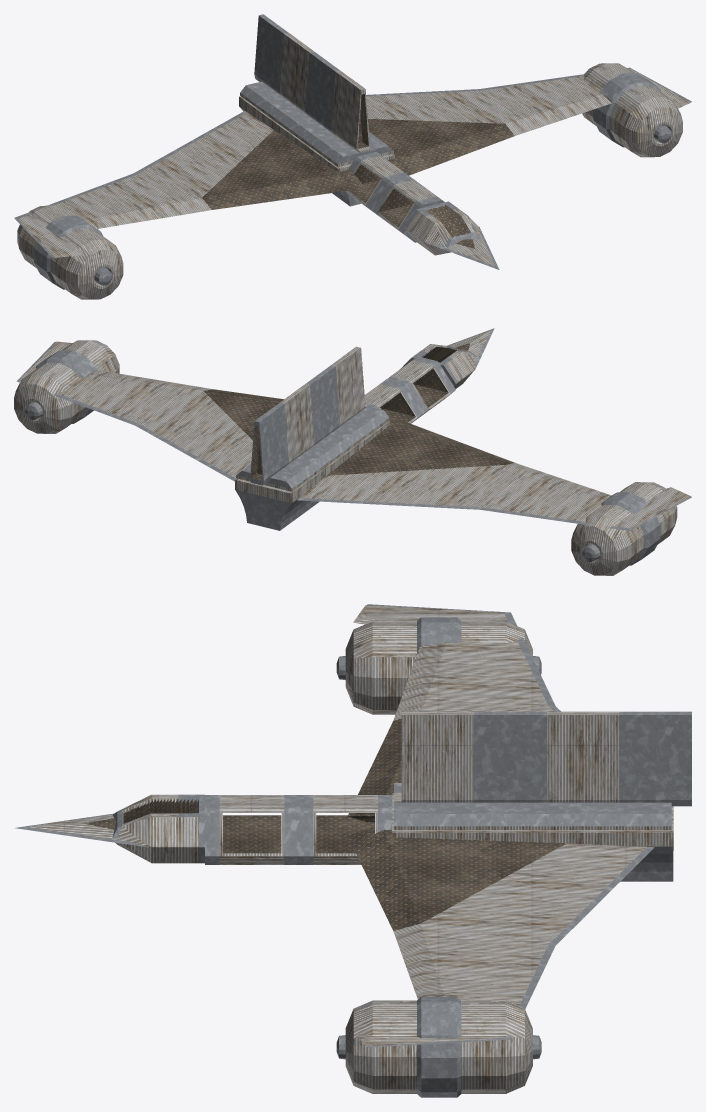
The model's file is rocket2.gltf.
3 views of the same model, one above another, from view 1: azimuth 30°, elevation 25°; view 2: azimuth 150°, elevation 25°; view 3: azimuth 270°, elevation 25° (orthographic). The views are drawn at different scales.
Parts seen in each view (by area): view 1: mergedBlocks; view 2: mergedBlocks; view 3: mergedBlocks.
Part boxes in pixels (bbox=[...]): mergedBlocks: bbox=[14, 14, 691, 299]; mergedBlocks: bbox=[14, 328, 691, 575]; mergedBlocks: bbox=[15, 604, 691, 1097].
Size of the model in its own units: 11.21 by 2.29 by 7.24.
3 materials, 3 textured.
